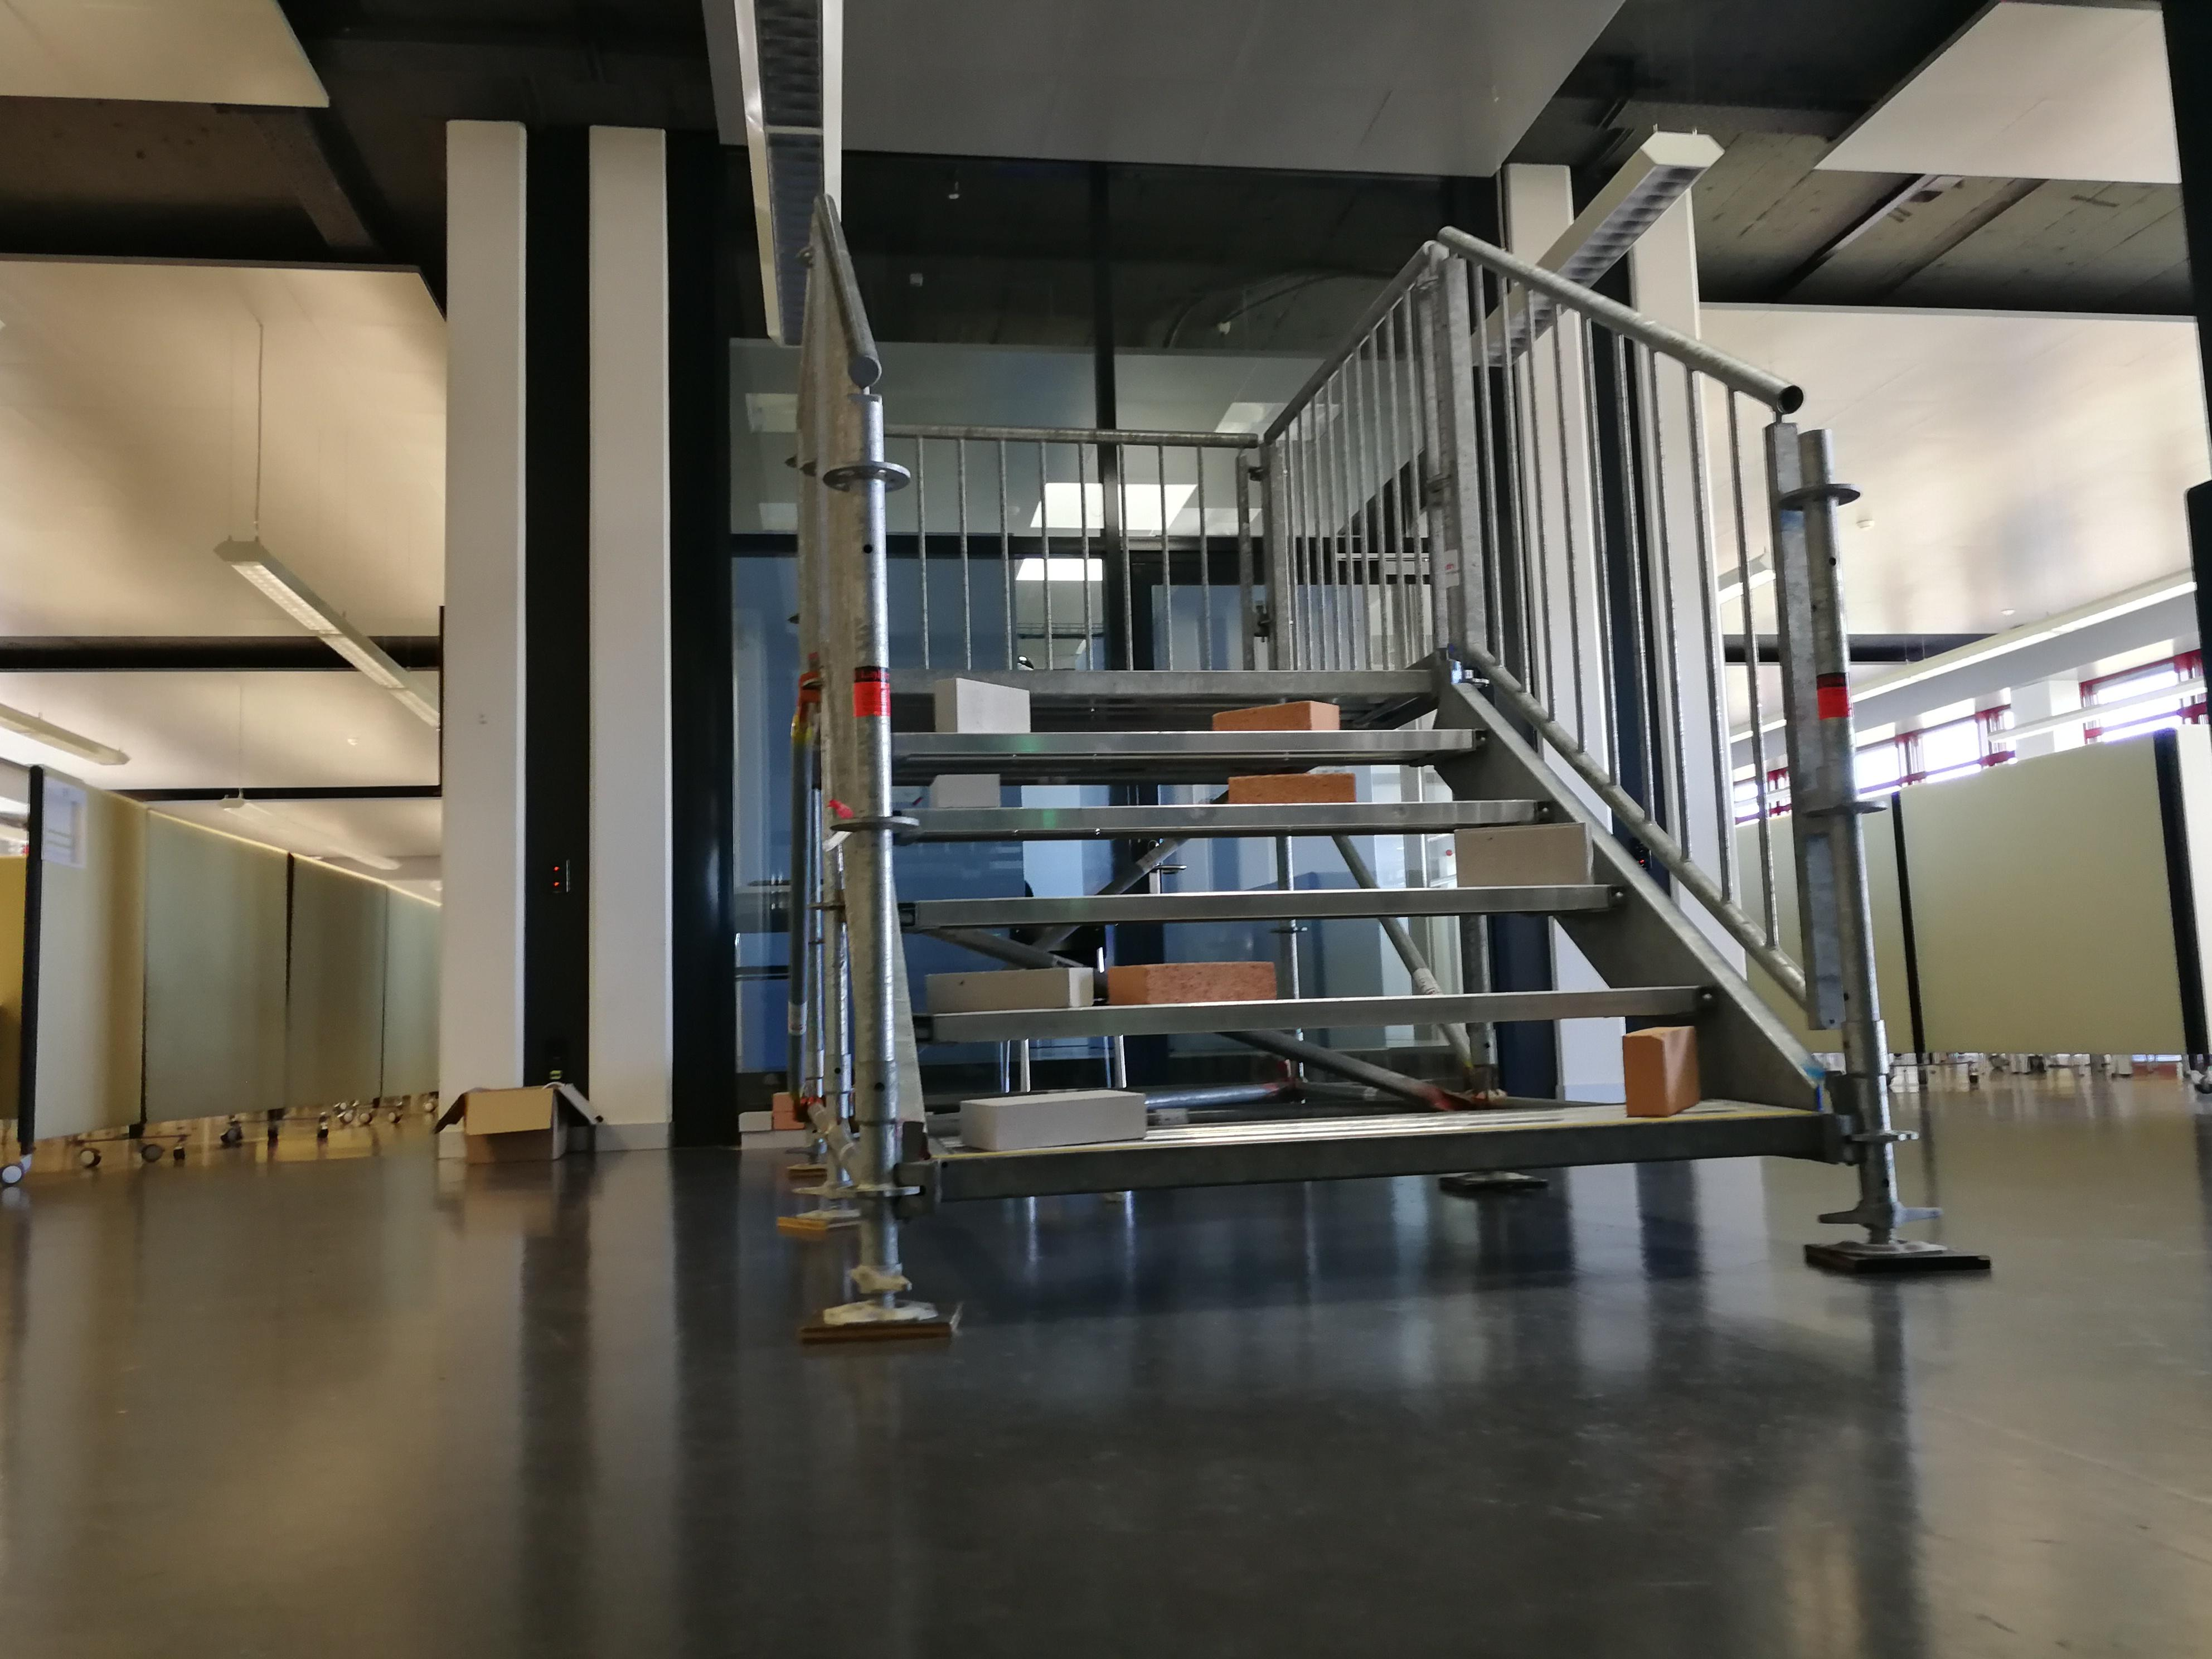brick: (961, 1087, 1144, 1150), (1456, 823, 1590, 887), (1620, 1025, 1700, 1115), (927, 969, 1090, 1012), (1108, 960, 1271, 1004), (932, 680, 1028, 730), (1226, 774, 1357, 803), (1212, 702, 1338, 732), (928, 772, 996, 809)
edge: (923, 1114, 1827, 1192), (902, 985, 1721, 1042), (894, 885, 1629, 927), (890, 798, 1561, 829), (888, 730, 1493, 753), (885, 669, 1439, 694)
stairs: (806, 202, 1994, 1337)
steps: (874, 645, 1841, 1220)
